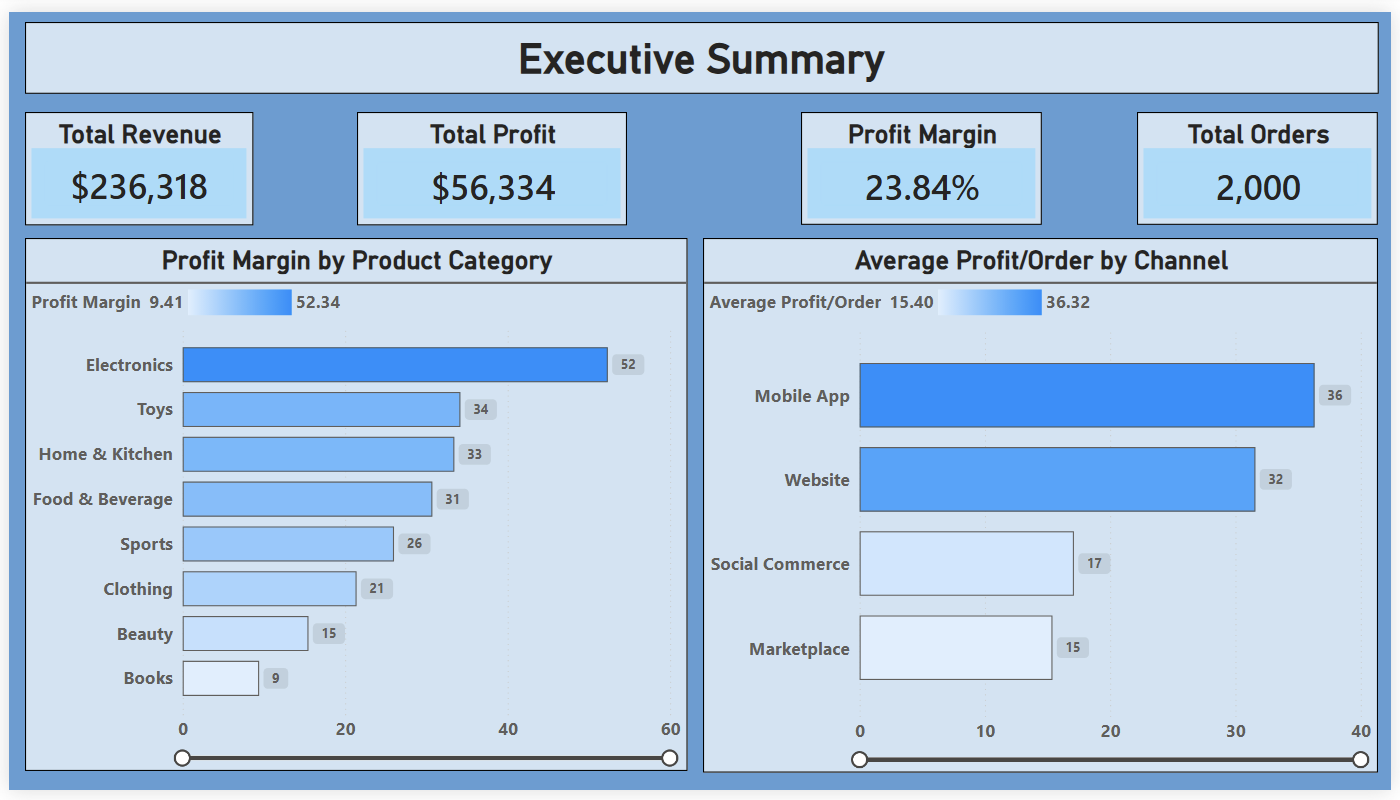

The dashboard page shown, as its layout file describes it:
{"tool":"powerbi","page":{"name":"Executive Summary","canvas":[1280,720],"ordinal":0},"visuals":[{"type":"textbox","box":[15,10,1253.3,66.7],"z":0},{"type":"cardVisual","title":"Total Profit","fields":{"Data":["Sum(ecommerce orders.profit)"]},"box":[321.7,91.7,250,105],"z":1000},{"type":"cardVisual","title":"Profit Margin","fields":{"Data":["ecommerce orders.profit_margin"]},"box":[733.3,91.7,223.2,104.6],"z":2000},{"type":"cardVisual","title":"Total Revenue","fields":{"Data":["Sum(ecommerce orders.net_revenue)"]},"box":[15,91.7,211.7,105],"z":3000},{"type":"cardVisual","title":"Total Orders","fields":{"Data":["CountNonNull(ecommerce orders.order_id)"]},"box":[1045,91.7,223.2,104.6],"z":4000},{"type":"barChart","title":"Profit Margin by Product Category","fields":{"Y":["Avg(ecommerce orders.profit)"],"Category":["ecommerce orders.primary_category"]},"box":[15,210,613.3,493.3],"z":5000},{"type":"barChart","title":"Average Profit/Order by Channel","fields":{"Y":["Avg(ecommerce orders.profit)"],"Category":["ecommerce orders.channel"]},"box":[643.3,210,625,495],"z":6000}]}

Visuals, with their boxes in screenshot pixels (x1, y1, x2, y2), scaled from the page's 1280x720 canvas onto the 1400x800 screenshot:
textbox: rect(16, 11, 1387, 85)
"Total Profit" cardVisual: rect(352, 102, 625, 219)
"Profit Margin" cardVisual: rect(802, 102, 1046, 218)
"Total Revenue" cardVisual: rect(16, 102, 248, 219)
"Total Orders" cardVisual: rect(1143, 102, 1387, 218)
"Profit Margin by Product Category" barChart: rect(16, 233, 687, 781)
"Average Profit/Order by Channel" barChart: rect(704, 233, 1387, 783)
